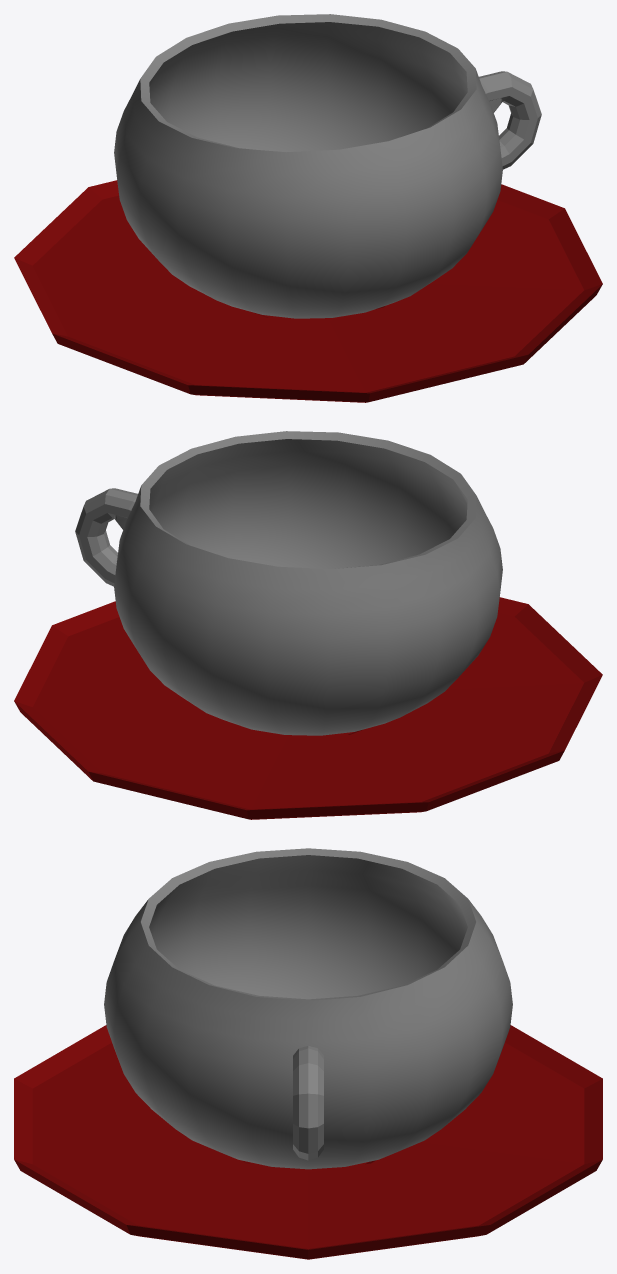
Rendered from CostaCup.obj.
3 views of the same model, one above another, from view 1: azimuth 30°, elevation 25°; view 2: azimuth 150°, elevation 25°; view 3: azimuth 270°, elevation 25° (orthographic). The views are drawn at different scales.
Parts seen in each view (by area): view 1: pSphere1, pSphere2, pTorus1; view 2: pSphere1, pSphere2, pTorus1; view 3: pSphere1, pSphere2, pTorus1.
Boxes of the visible parts, box(x1,y1,x2,y2) form: pSphere1: box(114, 14, 502, 318); pSphere2: box(14, 180, 602, 402); pTorus1: box(479, 71, 541, 169); pSphere1: box(114, 431, 502, 735); pSphere2: box(14, 597, 602, 819); pTorus1: box(75, 488, 137, 586); pSphere1: box(104, 848, 512, 1169); pSphere2: box(14, 1025, 602, 1259); pTorus1: box(293, 1046, 323, 1160).
Size of the model in its own units: 15.33 by 6.11 by 14.58.
